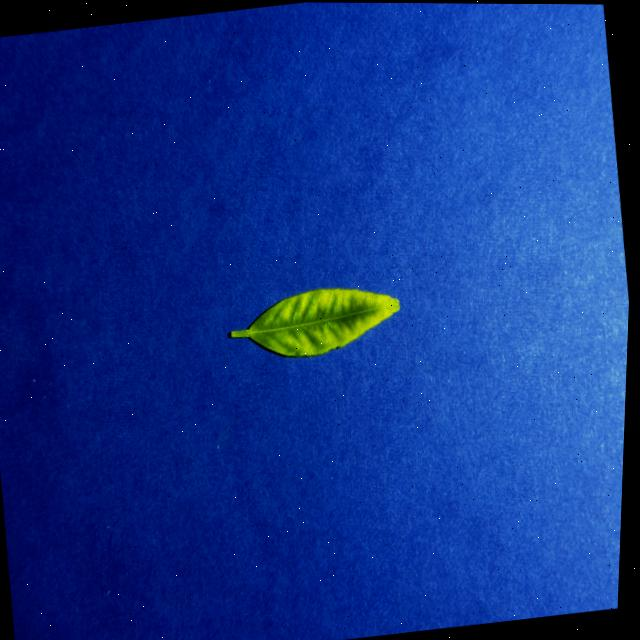greening: (229, 288, 398, 356)
